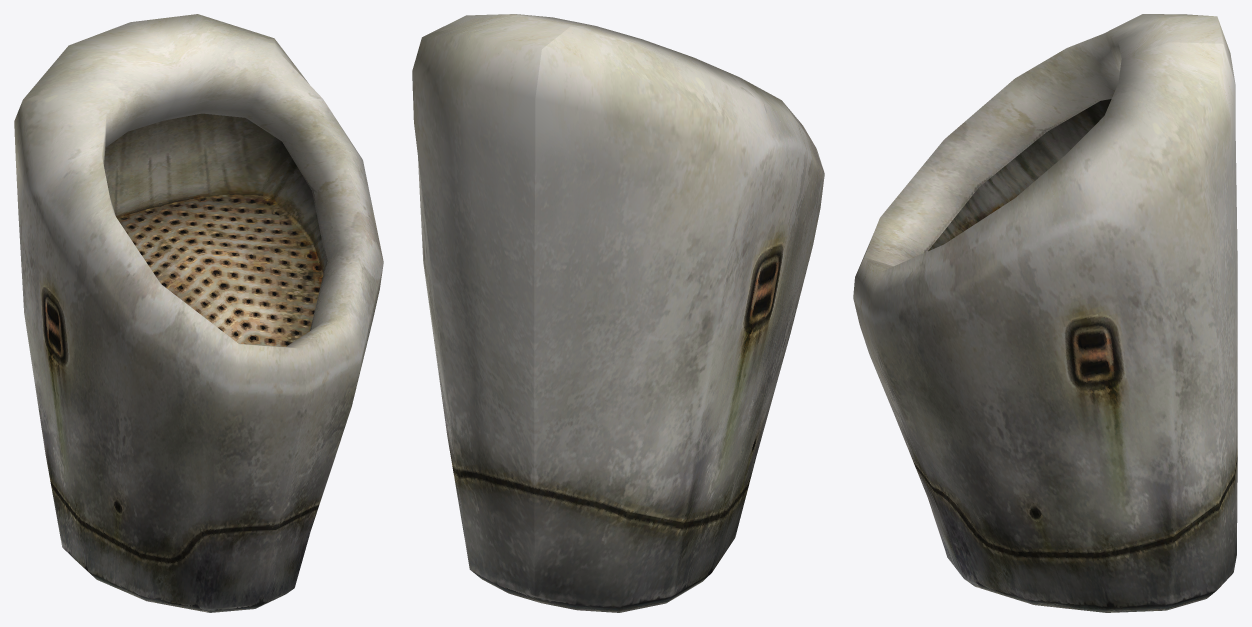
The model's file is urinal.dae.
3 renders of one model, left to right at view 1: azimuth 30°, elevation 25°; view 2: azimuth 150°, elevation 25°; view 3: azimuth 270°, elevation 25°, orthographic. The views are drawn at different scales.
Visible parts, largest first — view 1: urinal; view 2: urinal; view 3: urinal.
Boxes of the visible parts, x1=… form: urinal: x1=14, y1=14, x2=383, y2=612; urinal: x1=412, y1=14, x2=824, y2=612; urinal: x1=853, y1=14, x2=1237, y2=612.
Bounding box in the file's own units: 0.6569 × 1.05 × 0.699.
Materials: 1 (1 with a texture image).
